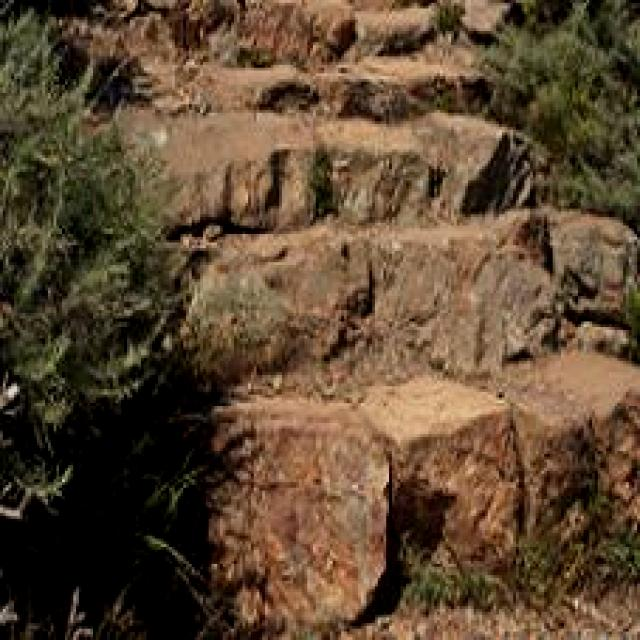upstair: (122, 114, 638, 556)
